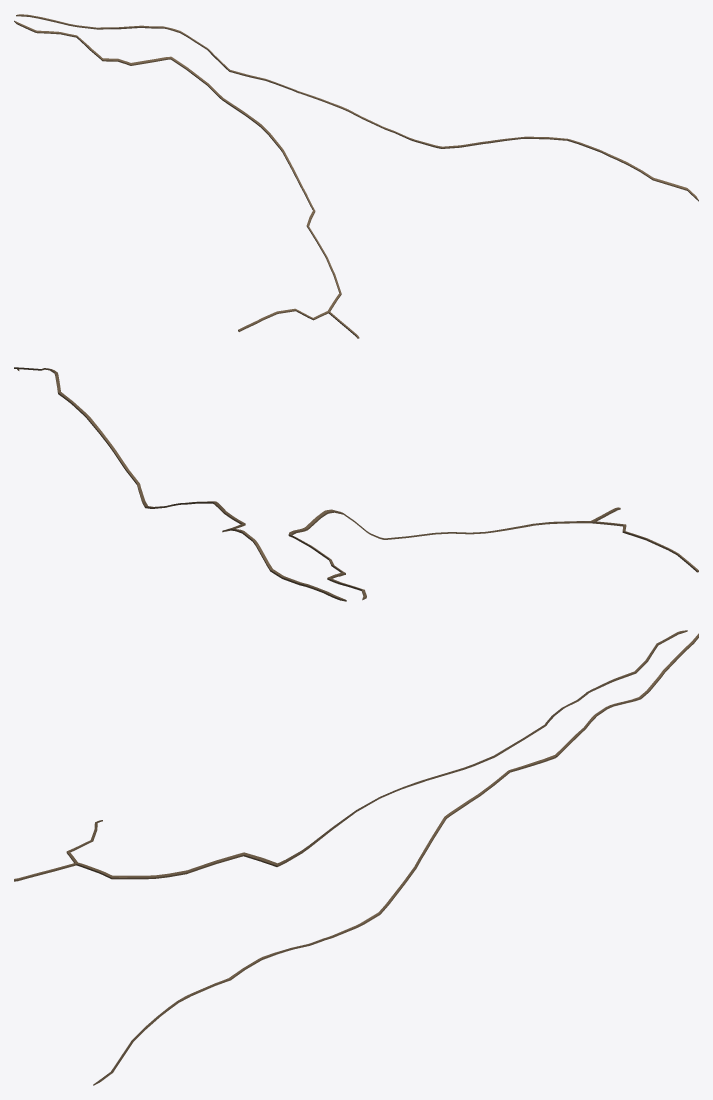
The picture shows the model from 3 angles, top to bottom: view 1: azimuth 30°, elevation 25°; view 2: azimuth 150°, elevation 25°; view 3: azimuth 270°, elevation 25°; orthographic projection. The views are drawn at different scales.
Size of the model in its own units: 293 by 92.58 by 292.
